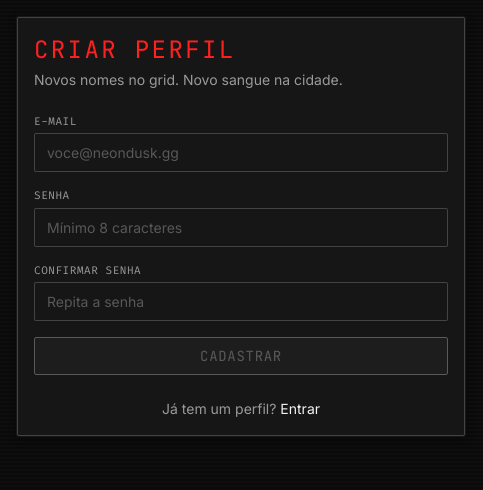
Test: RegisterView › should show the error message when registration fails
Type "new@neondusk.gg" into the field with placeholder "voce@neondusk.gg" at {"x": 241, "y": 153}, box [34,133,448,172]
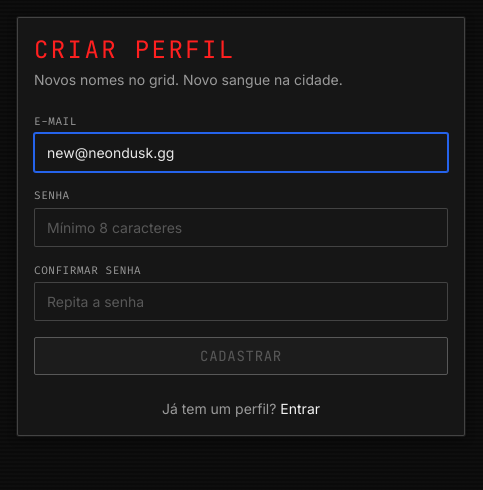
Type "Secret123" into the password field with placeholder "Mínimo 8 caracteres" at {"x": 241, "y": 227}, box [34,208,448,247]
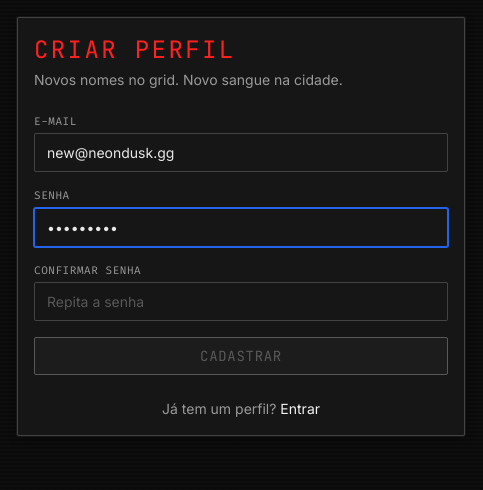
Type "Secret123" into the password field with placeholder "Repita a senha" at {"x": 241, "y": 302}, box [34,282,448,321]
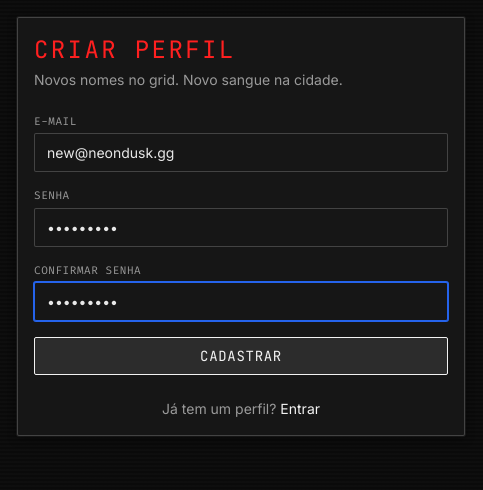
Click the button "CADASTRAR" at {"x": 241, "y": 356}, box [34,337,448,375]
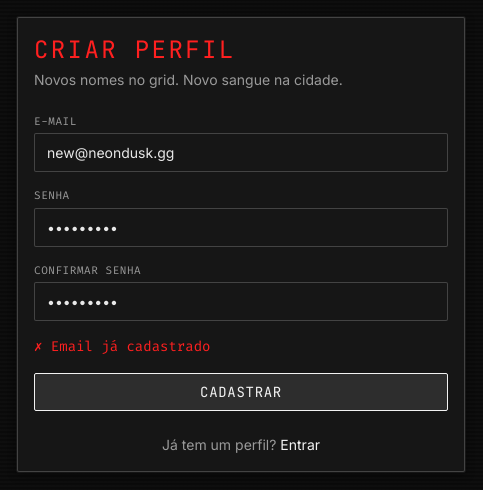
Expected: the message shows "Email já cadastrado", [51,337,210,356]
